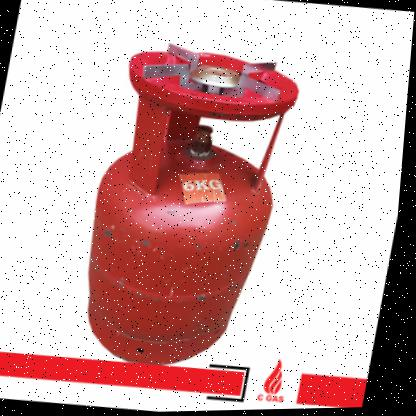gas-tank: (49, 14, 324, 388)
